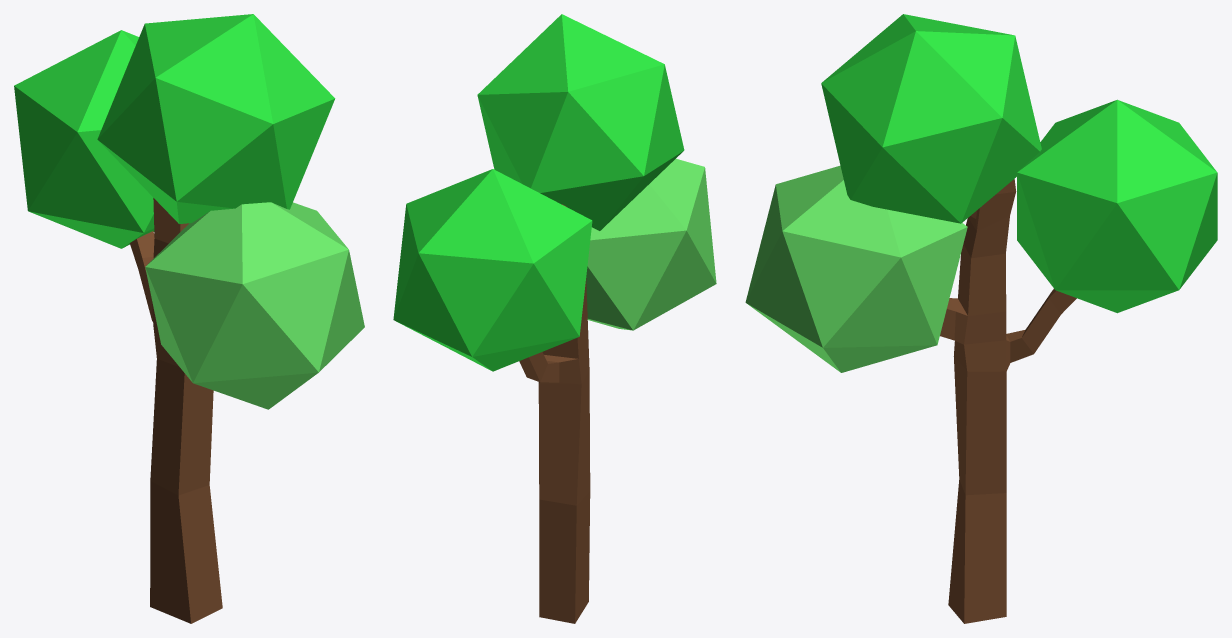
File: livingtreeplain2.fbx
The picture shows the model from 3 angles, left to right: view 1: azimuth 30°, elevation 25°; view 2: azimuth 150°, elevation 25°; view 3: azimuth 270°, elevation 25°; orthographic projection. The views are drawn at different scales.
Parts seen in each view (by area): view 1: Cube.005; view 2: Cube.005; view 3: Cube.005.
Boxes of the visible parts, bbox=[...] form: Cube.005: bbox=[14, 14, 364, 623]; Cube.005: bbox=[393, 14, 716, 623]; Cube.005: bbox=[745, 14, 1217, 623].
Bounding box in the file's own units: 84.01 × 262 × 188.
